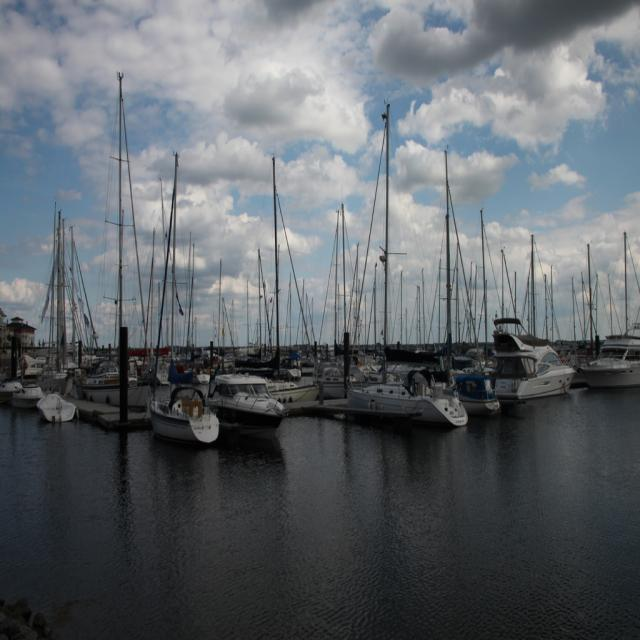Boat: (0, 71, 640, 410), (352, 100, 467, 425), (278, 201, 366, 416), (443, 147, 505, 417), (495, 235, 573, 404), (575, 228, 640, 397), (141, 359, 221, 444), (207, 374, 284, 437), (39, 391, 80, 424), (13, 386, 46, 412), (0, 380, 21, 400)
